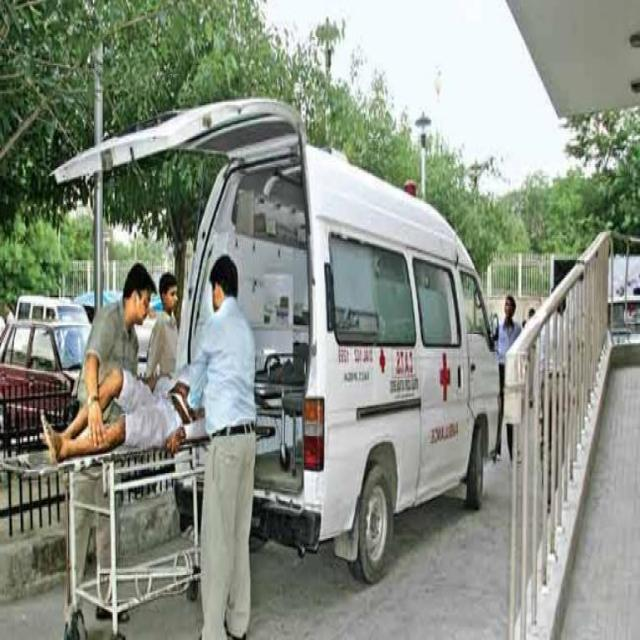car: (0, 313, 91, 453)
emergency: (55, 98, 499, 581)
